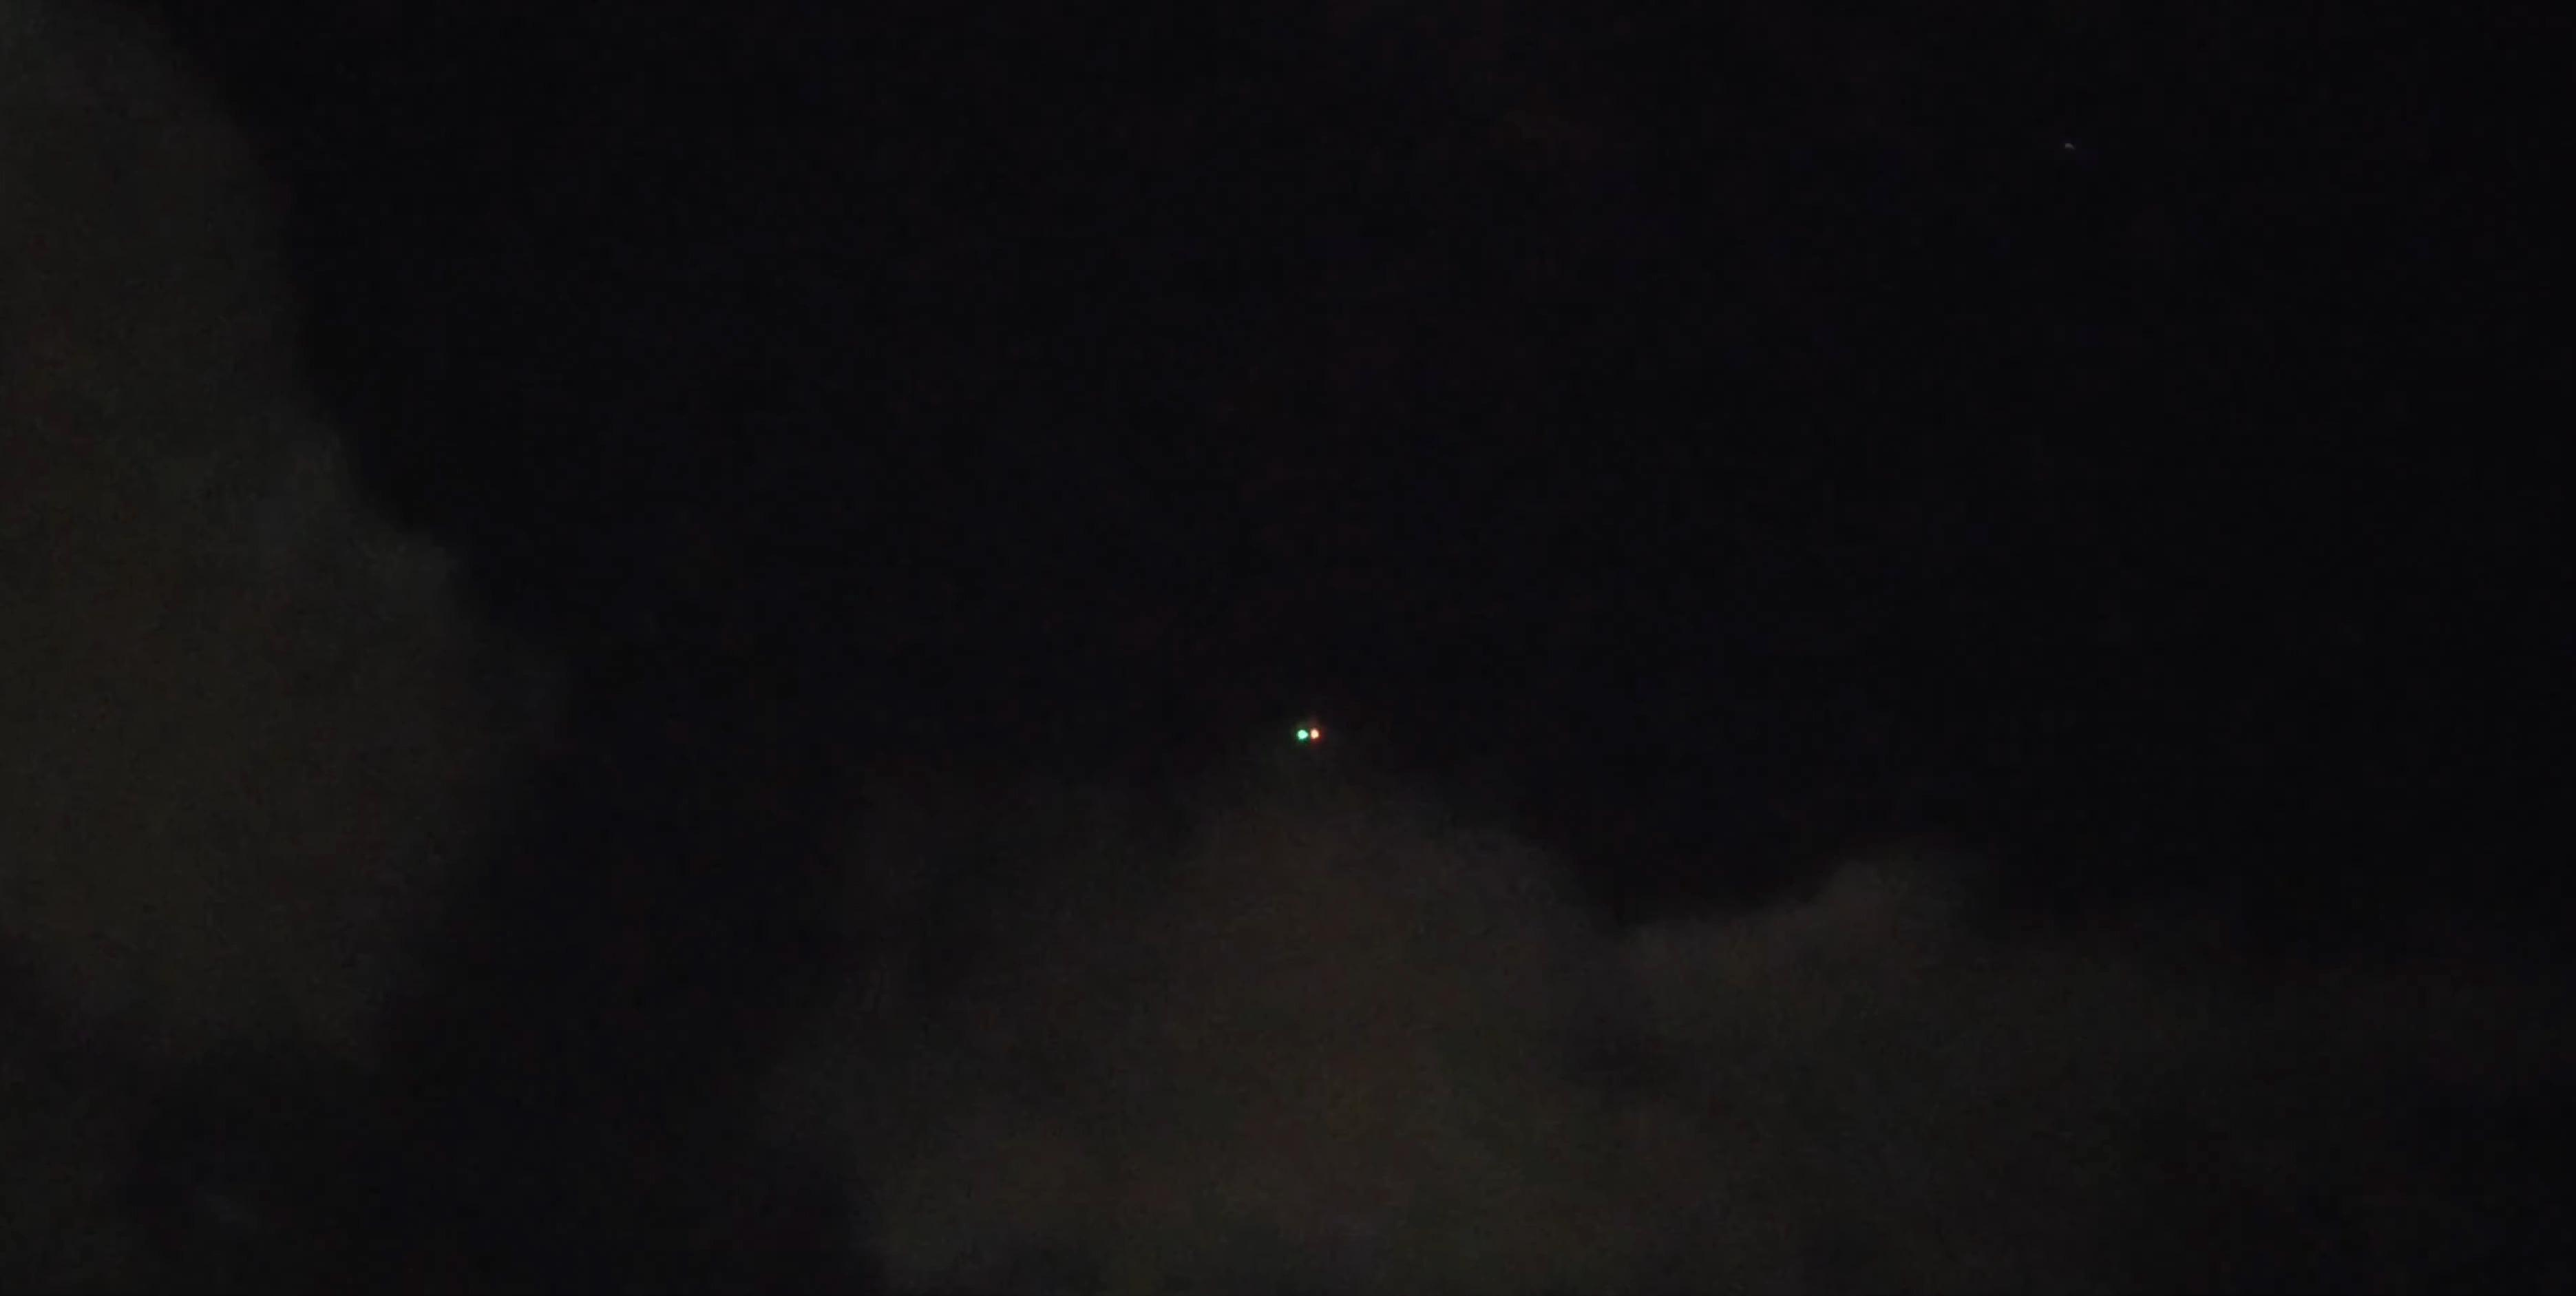Plane: (1234, 696, 1386, 767)
